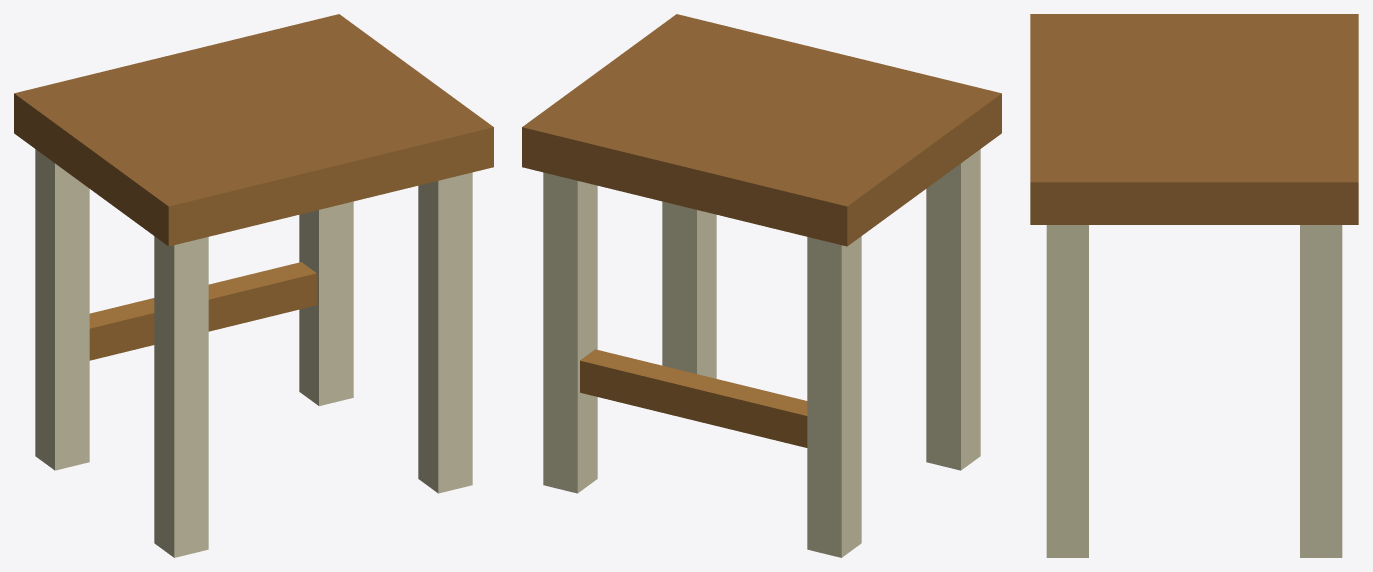
The model's file is C_Table_Small.fbx.
3 renders of one model, left to right at view 1: azimuth 30°, elevation 25°; view 2: azimuth 150°, elevation 25°; view 3: azimuth 270°, elevation 25°, orthographic. The views are drawn at different scales.
Visible parts, largest first — view 1: C_Table_Small.004; view 2: C_Table_Small.004; view 3: C_Table_Small.004.
Part boxes in pixels (bbox=[...]): C_Table_Small.004: bbox=[14, 14, 493, 557]; C_Table_Small.004: bbox=[522, 14, 1001, 557]; C_Table_Small.004: bbox=[1030, 14, 1358, 557].
Size of the model in its own units: 0.85 by 0.9 by 0.7.
